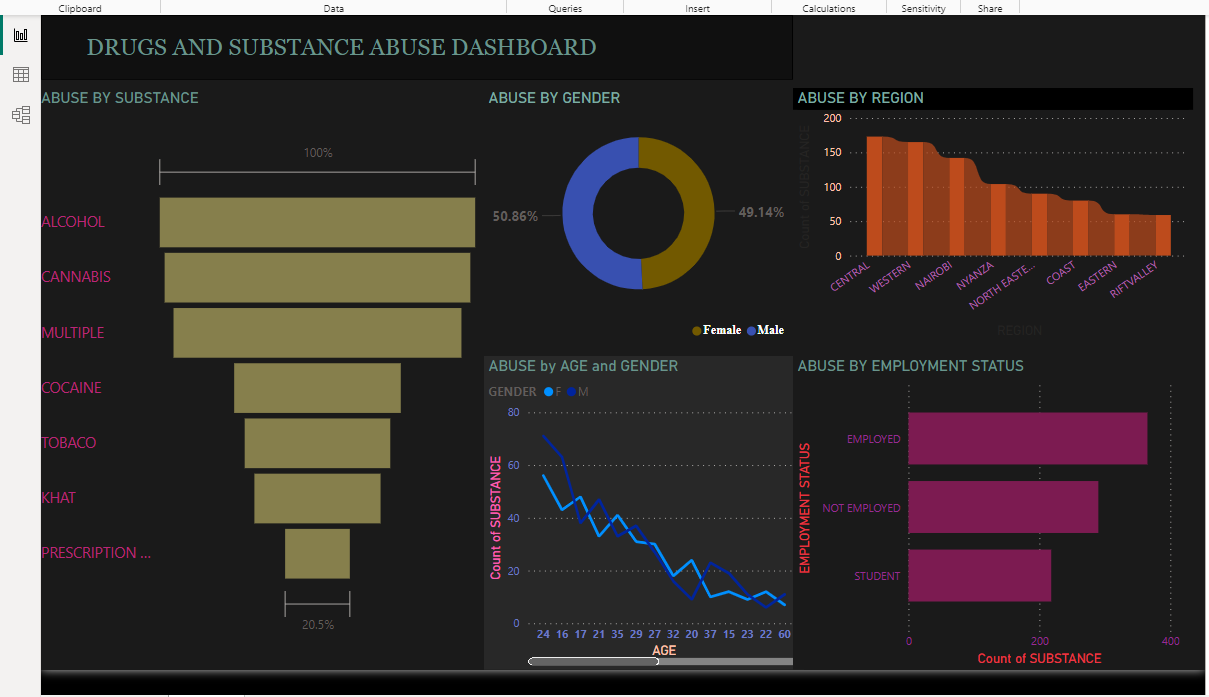

Layout of this report page (visuals, bound fields, positions):
{"tool":"powerbi","page":{"name":"Page 1","canvas":[1280,720],"ordinal":0},"visuals":[{"type":"shape","box":[0,0,826.9,71.5],"z":0},{"type":"donutChart","title":"ABUSE  BY  GENDER","fields":{"Y":["Sheet1.FemaleUsers","Sheet1.MaleUsers"]},"box":[487.1,80.3,339.8,285.9],"z":1000},{"type":"funnel","title":"ABUSE BY SUBSTANCE ","fields":{"Category":["Sheet1.SUBSTANCE "],"Y":["Sheet1.TotalUsers"]},"box":[0,80.7,487.5,639.4],"z":2000},{"type":"lineChart","title":"ABUSE  by AGE  and GENDER","fields":{"Category":["Sheet1.AGE "],"Y":["CountNonNull(Sheet1.SUBSTANCE )"],"Series":["Sheet1.GENDER"]},"box":[487.1,375,351.9,345.3],"z":3000},{"type":"ribbonChart","title":"ABUSE BY REGION ","fields":{"Category":["Sheet1.REGION "],"Y":["CountNonNull(Sheet1.SUBSTANCE )"]},"box":[826.9,80.3,439.9,279.3],"z":3001},{"type":"barChart","title":"ABUSE BY EMPLOYMENT STATUS","fields":{"Category":["Sheet1.EMPLOYMENT STATUS"],"Y":["CountNonNull(Sheet1.SUBSTANCE )"]},"box":[826.9,375,430,345.3],"z":3002}]}

Visuals, with their boxes on the page's 1280x720 design canvas (x1, y1, x2, y2). These are canvas units, not pixel positions in the 1209x697 screenshot, which may show the page scaled, cropped or inside an application window:
shape: box=[0, 0, 827, 72]
"ABUSE  BY  GENDER" donutChart: box=[487, 80, 827, 366]
"ABUSE BY SUBSTANCE " funnel: box=[0, 81, 488, 720]
"ABUSE  by AGE  and GENDER" lineChart: box=[487, 375, 839, 720]
"ABUSE BY REGION " ribbonChart: box=[827, 80, 1267, 360]
"ABUSE BY EMPLOYMENT STATUS" barChart: box=[827, 375, 1257, 720]
